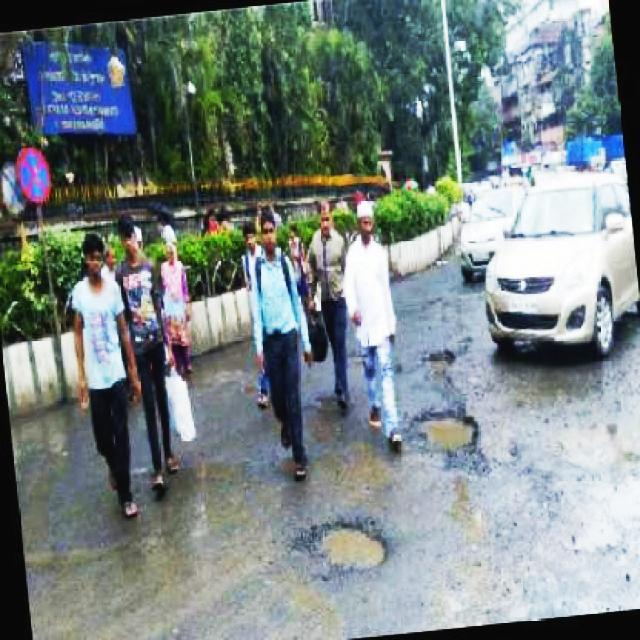pothole: (312, 518, 391, 574), (409, 408, 482, 458), (550, 424, 622, 474)
